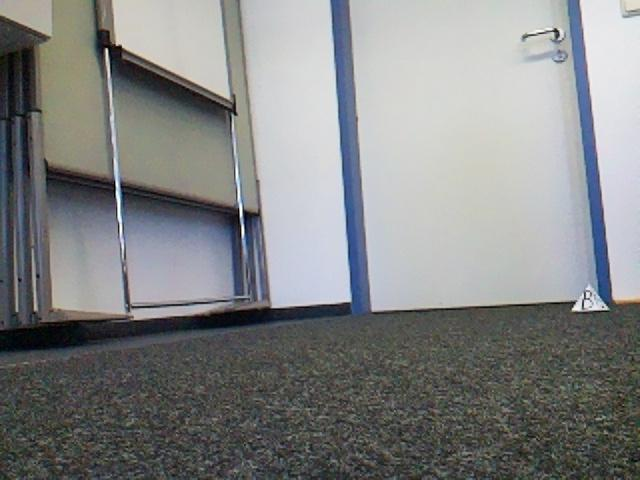B: (572, 284, 608, 312)
